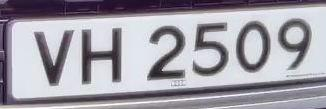0: (230, 11, 276, 81)
2: (140, 17, 191, 89)
5: (185, 13, 235, 84)
9: (271, 12, 315, 76)
H: (76, 22, 131, 91)
V: (30, 23, 78, 91)
